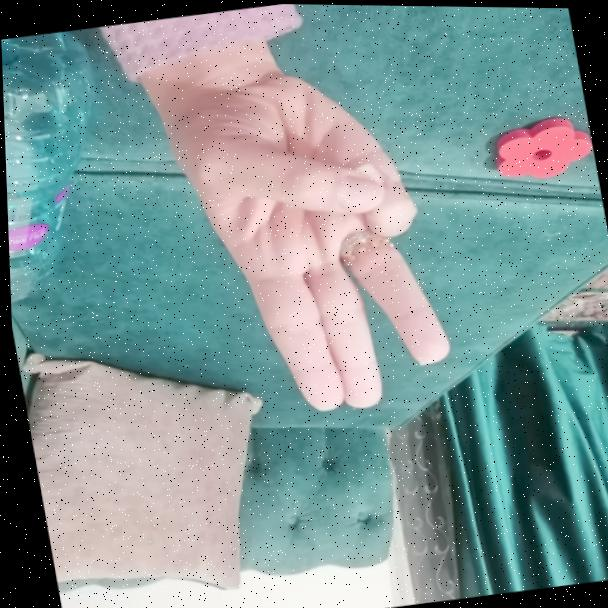five: (187, 61, 460, 437)
